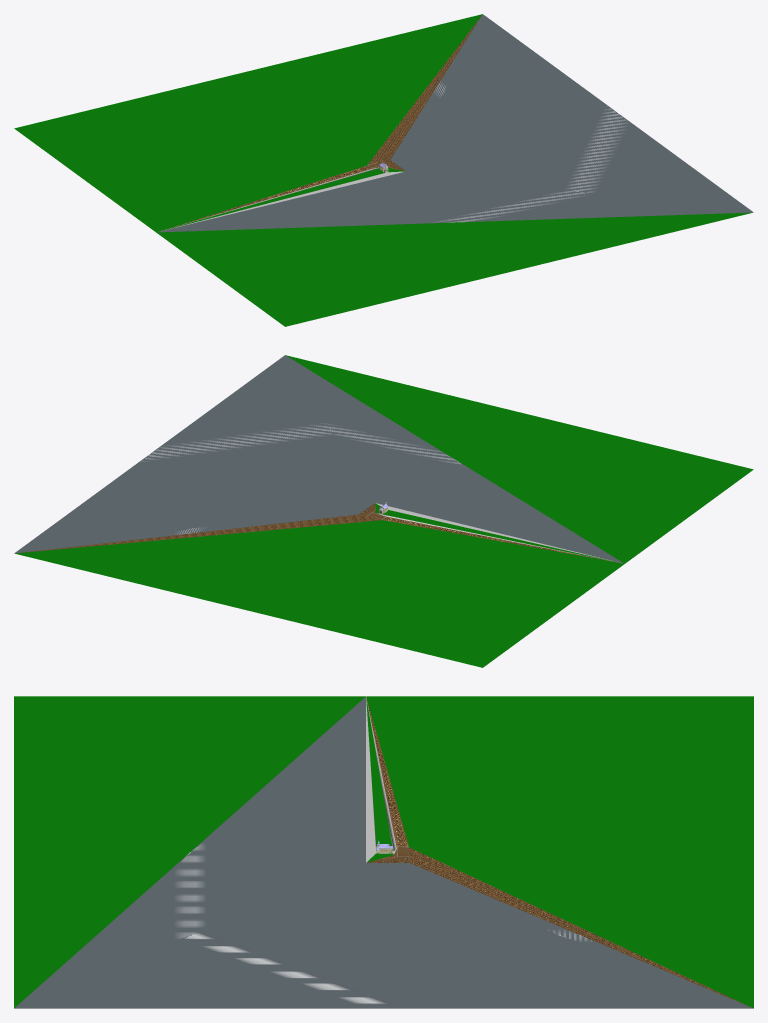
Rendered from ENVO_Church.obj.
3 renders of one model, top to bottom at view 1: azimuth 30°, elevation 25°; view 2: azimuth 150°, elevation 25°; view 3: azimuth 270°, elevation 25°, orthographic. The views are drawn at different scales.
Visible parts, largest first — view 1: Church; view 2: Church; view 3: Church.
Boxes of the visible parts, box(x1,y1,x2,y2) form: Church: box(14, 14, 753, 326); Church: box(14, 355, 753, 667); Church: box(14, 696, 753, 1008).
Size of what is drawn, in the model's own units: 30600 by 562 by 30651.
21 materials, 13 textured.
